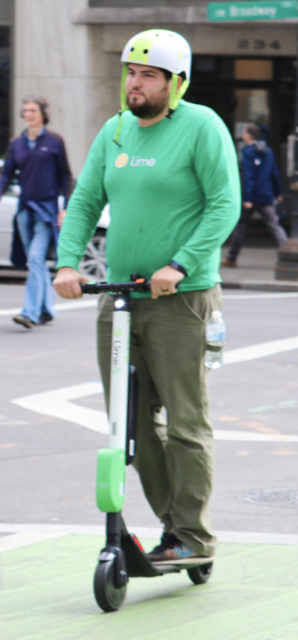scooter: (53, 271, 218, 617)
with helmet: (113, 24, 191, 123)
